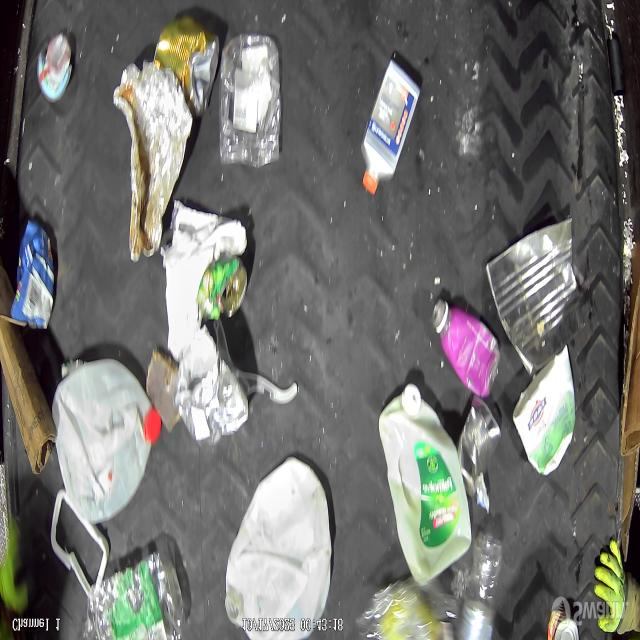can: (152, 16, 220, 117), (459, 397, 502, 482), (197, 259, 249, 322), (547, 610, 579, 640)
milk_jug: (226, 457, 334, 638), (378, 384, 472, 582), (54, 360, 160, 524)
plastic_bottle: (460, 533, 502, 640)
